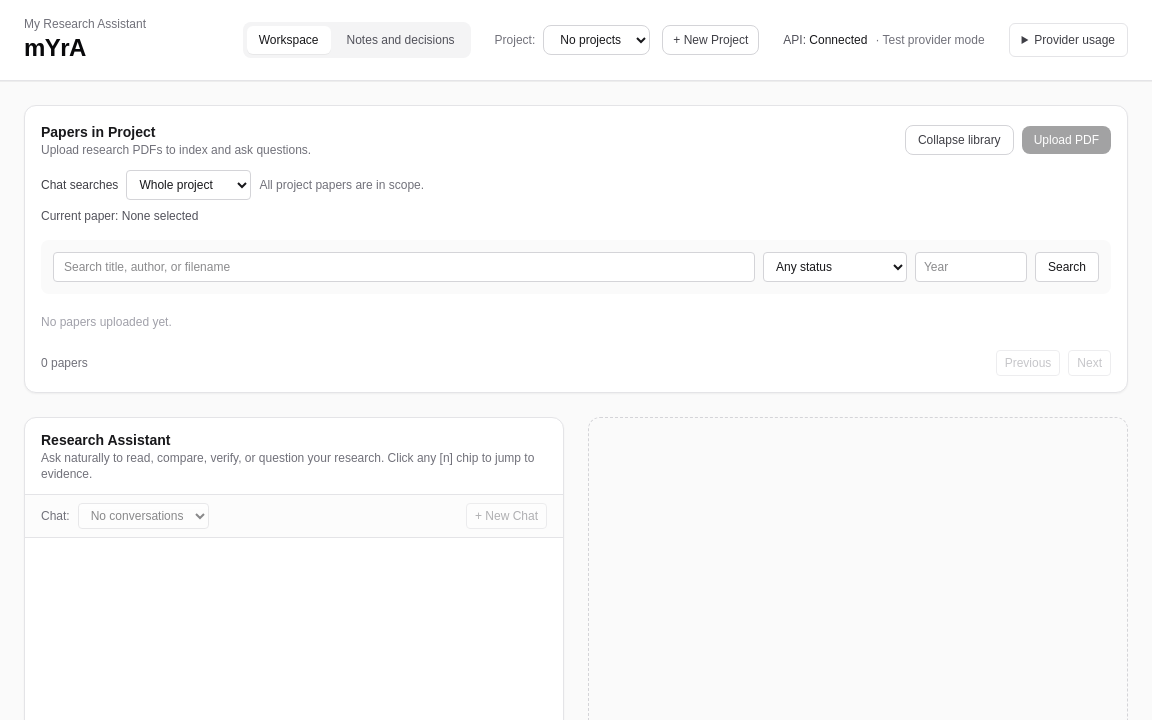
Test case: Home › shows the connected state when the API responds
Expected: the heading "mYrA" is shown, [24,34,86,61]
Expected: the text "Connected" is shown, [809,33,867,47]
Click the heading "Provider usage" at (1068,40), box [1009,23,1128,57]
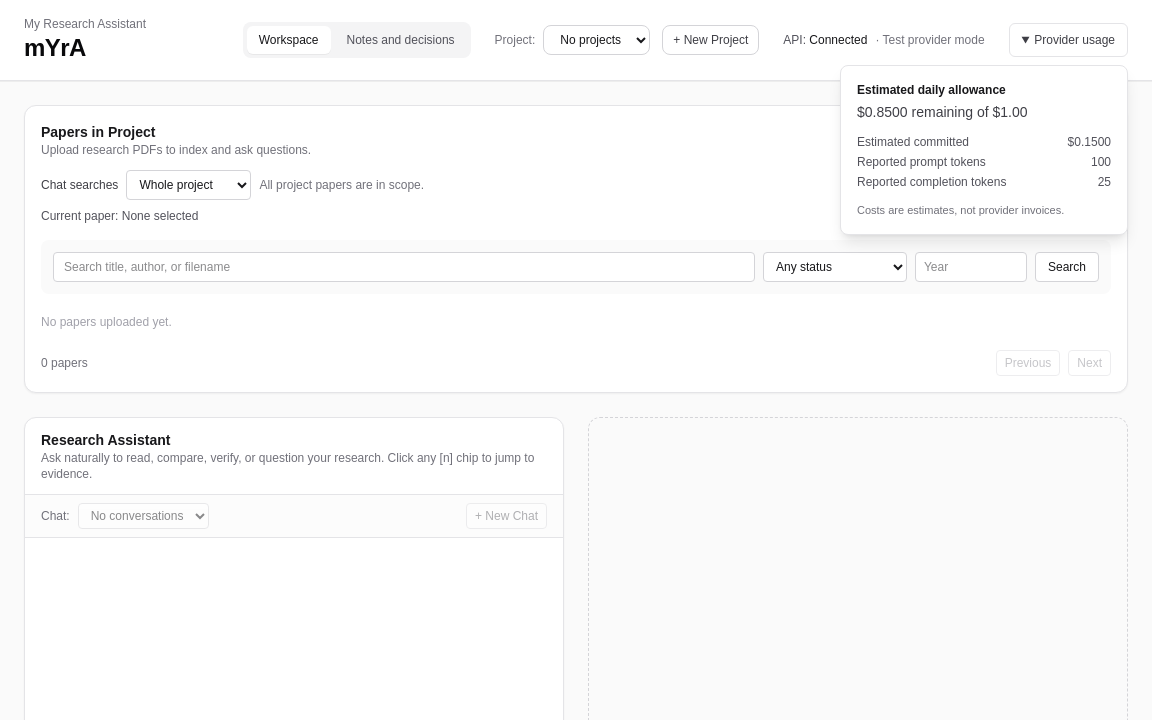
Expected: the text "$0.8500 remaining of $1.00" is shown, [857,104,1028,120]
Expected: the text "100" is shown, [1091,154,1111,170]
